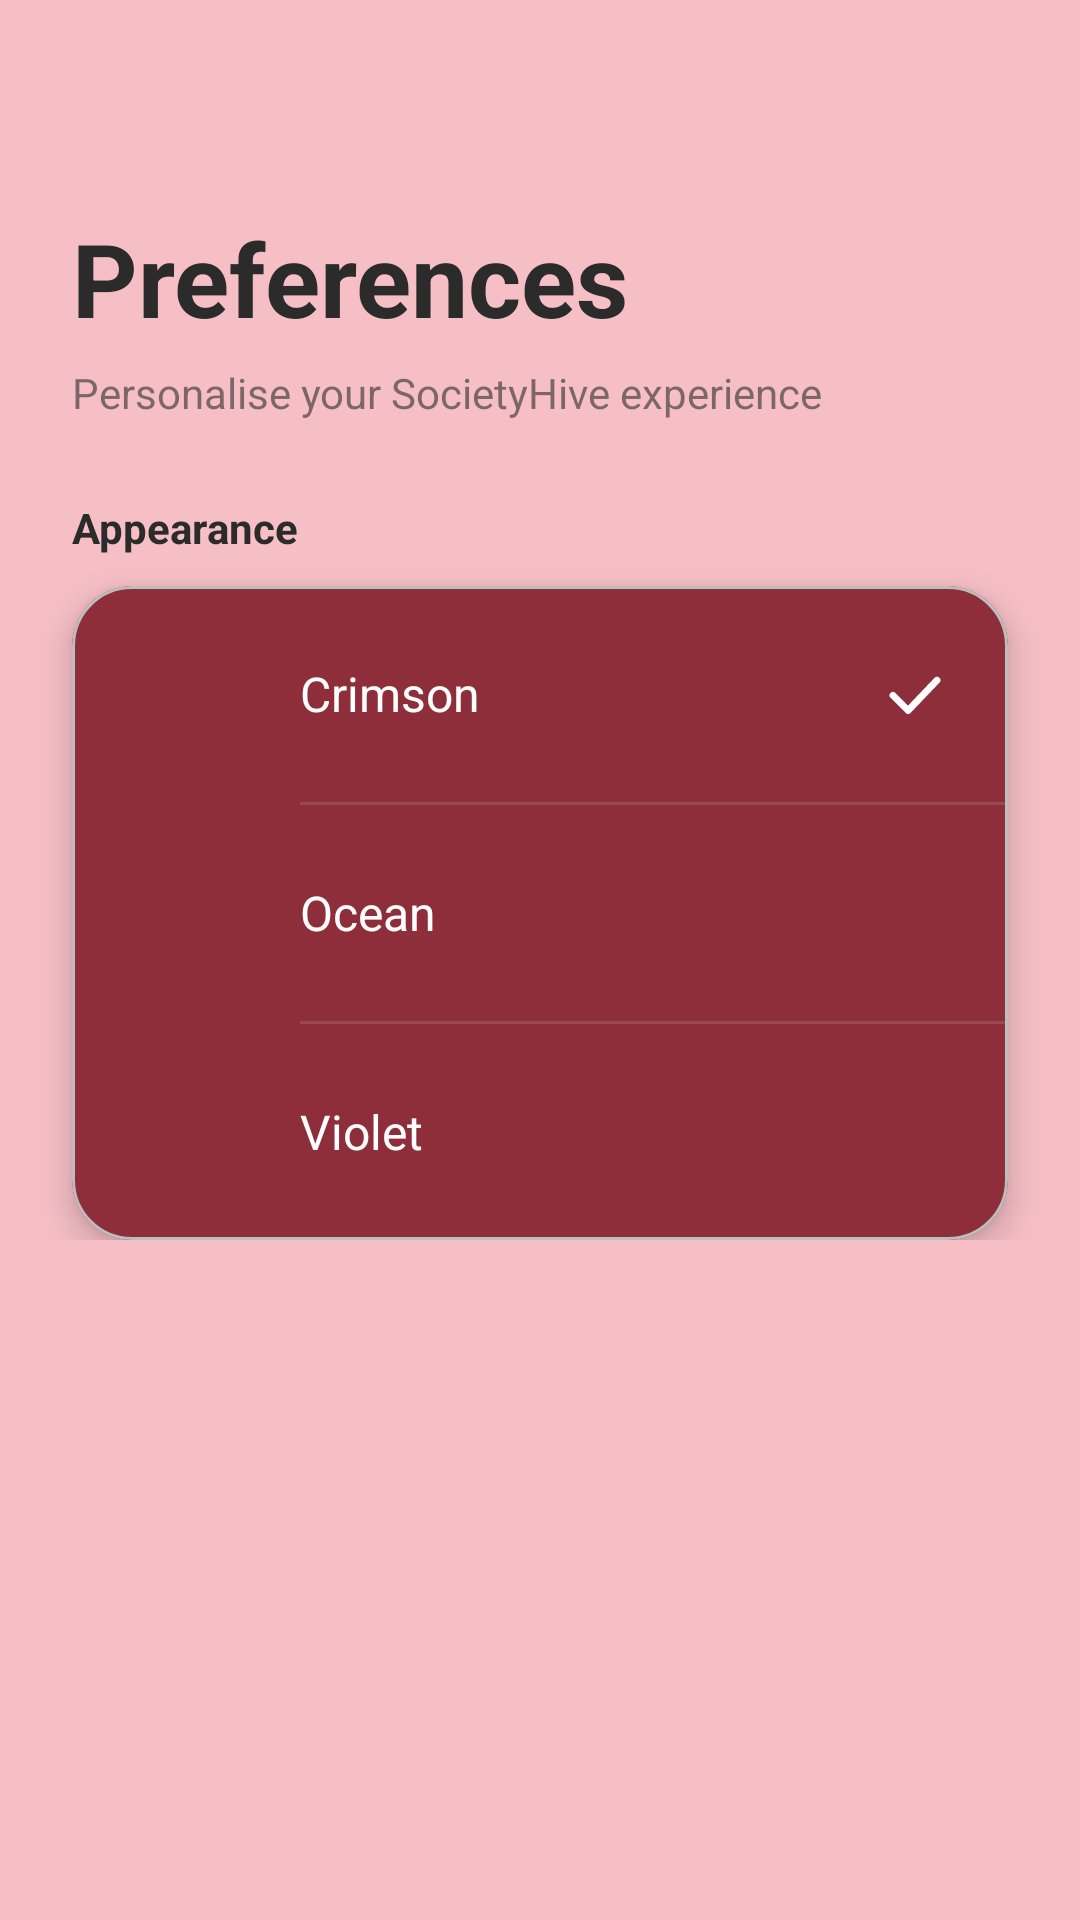

Screen size 1080px×1920px. Icon name, then its box in pixels as (x1, y1, x2, y2):
check: (889, 676, 941, 714)
